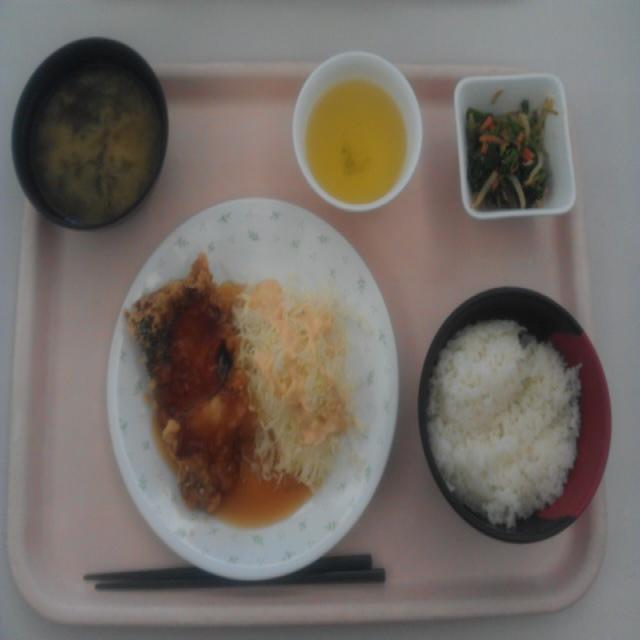Rice: (422, 317, 590, 534)
